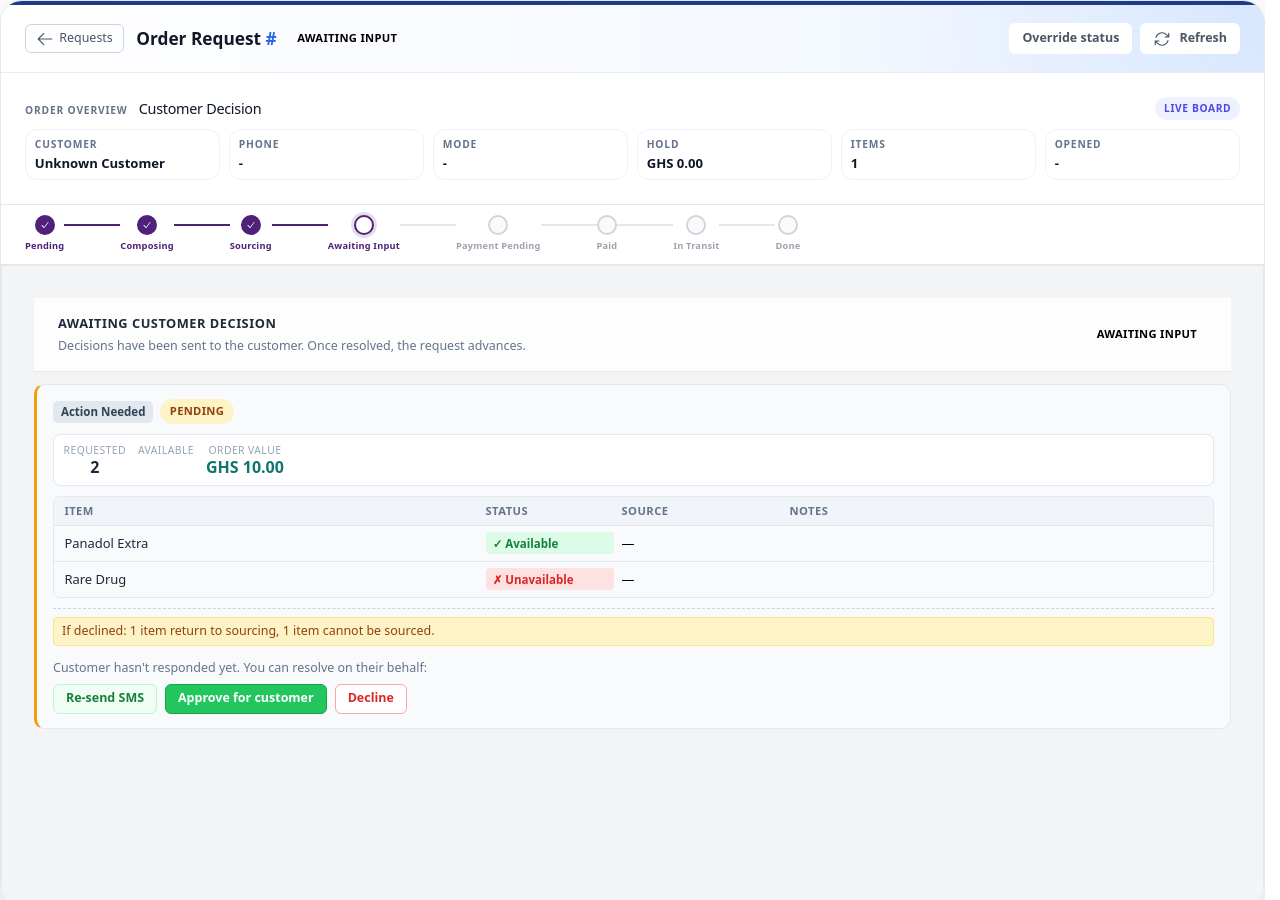
Scenario: decisions waiting on the customer › says so when the SMS cannot be sent
Click the button "Re-send SMS" at (105, 699), box top-left (53, 684), bottom-right (157, 714)
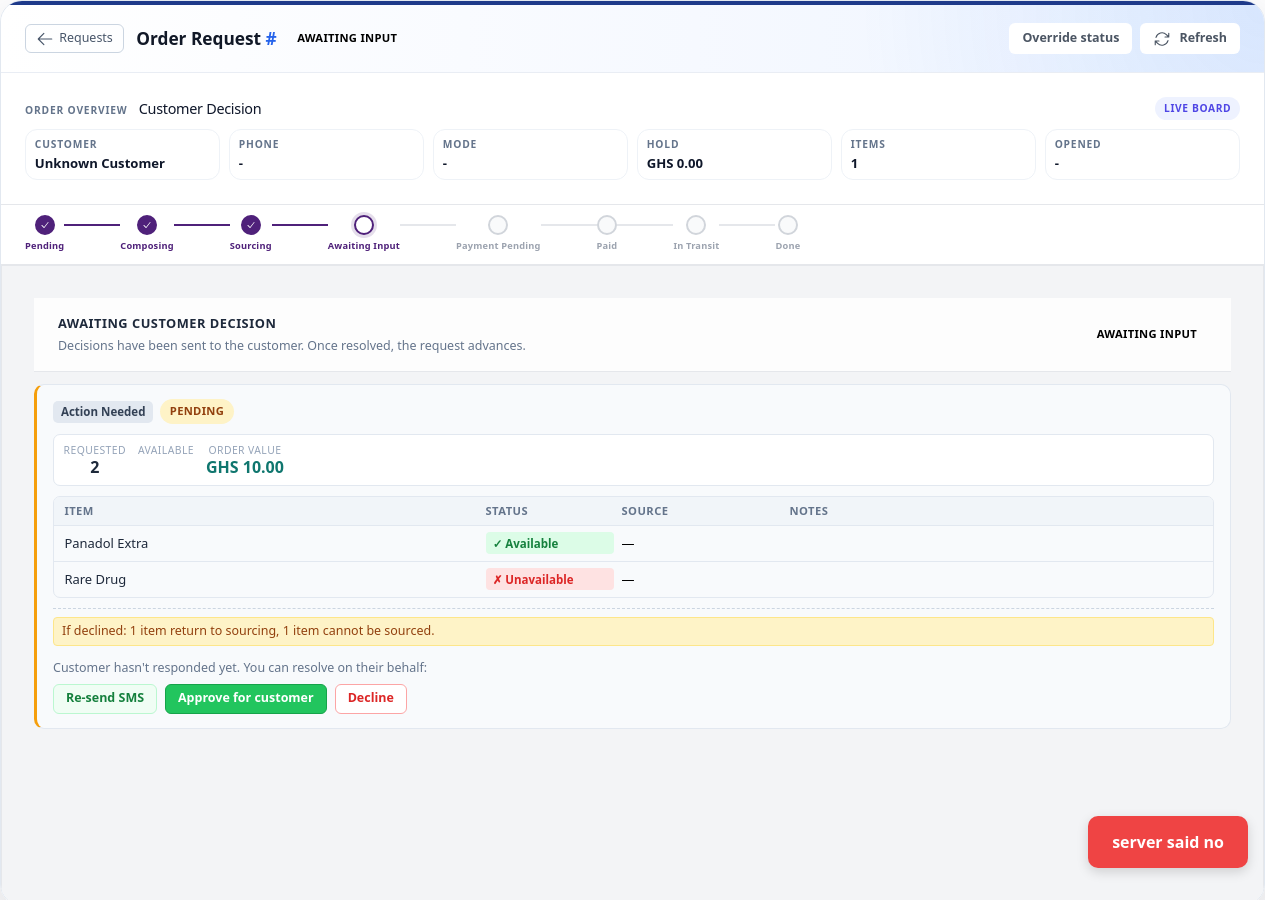
expect the text "server said no" is shown: met, box top-left (1088, 816), bottom-right (1248, 868)
